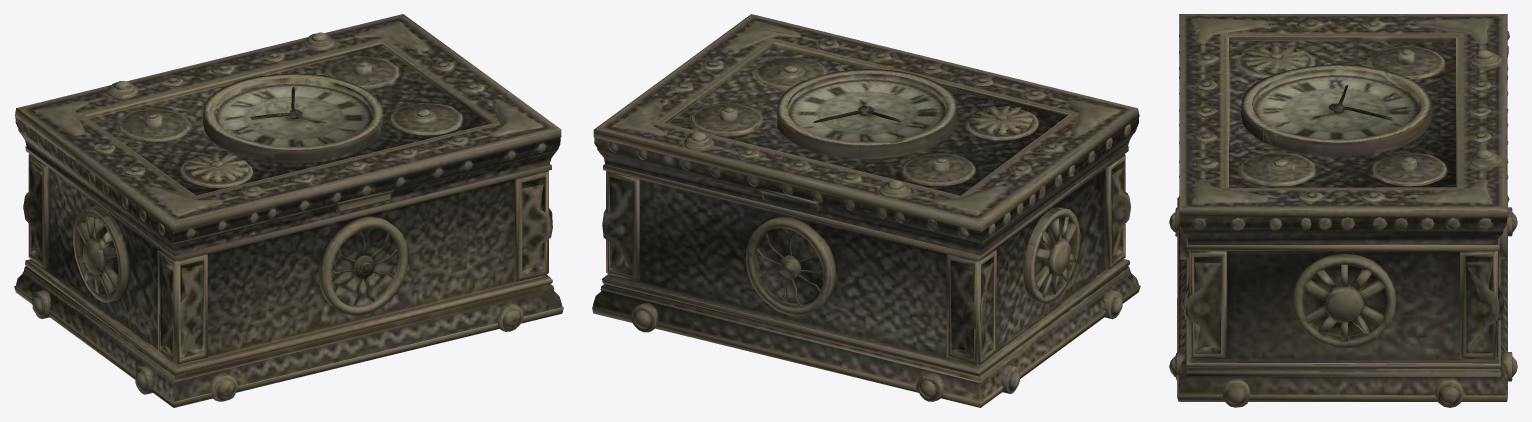
File: relic.glb
3 views of the same model, side by side, from view 1: azimuth 30°, elevation 25°; view 2: azimuth 150°, elevation 25°; view 3: azimuth 270°, elevation 25° (orthographic). The views are drawn at different scales.
Parts seen in each view (by area): view 1: midway-fit; view 2: midway-fit; view 3: midway-fit.
Boxes of the visible parts, box(x1,y1,x2,y2) form: midway-fit: box(14, 14, 563, 407); midway-fit: box(592, 14, 1140, 407); midway-fit: box(1169, 14, 1517, 407).
Size of the model in its own units: 1 by 0.474 by 0.7172.
1 material, 1 textured.
